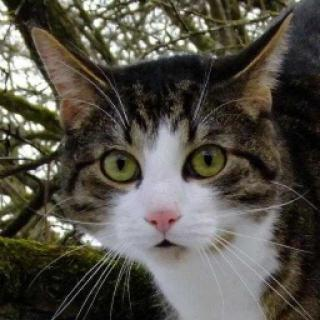cat: (30, 19, 309, 275)
nose: (142, 196, 188, 242)
